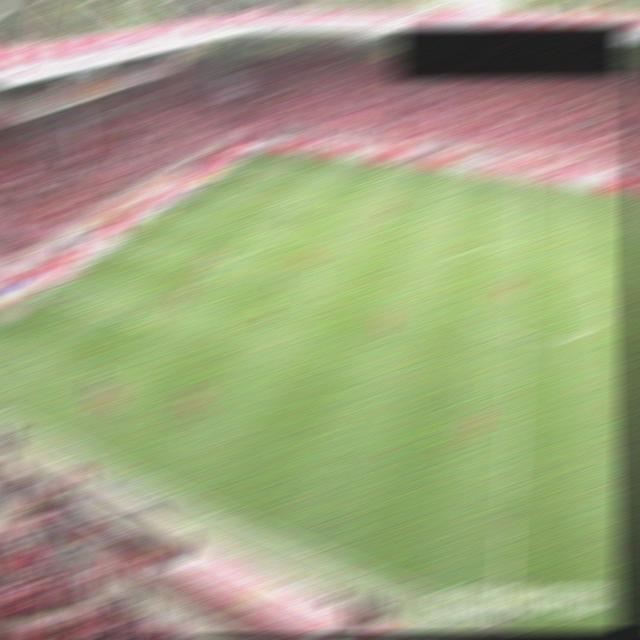bigarea_bottom_inner: (135, 318, 164, 335)
bigarea_bottom_outter: (34, 288, 60, 305)
bigarea_top_inner: (291, 176, 318, 189)
bigarea_top_outter: (213, 170, 237, 179)
bottom_arc_area_intersection: (205, 255, 231, 269)
corner: (246, 146, 274, 157)
halfcircle_bottom: (501, 323, 536, 348)
halfcircle_top: (508, 237, 539, 257)
midline_bottom_intersection: (489, 614, 512, 627)
midline_top_intersection: (510, 175, 541, 193)
smallarea_bottom_inner: (126, 247, 153, 264)
smallarea_bottom_outter: (101, 247, 123, 256)
smallarea_top_inner: (203, 194, 228, 206)
smallarea_top_outter: (177, 194, 201, 202)
top_arc_area_intersection: (257, 205, 283, 219)
